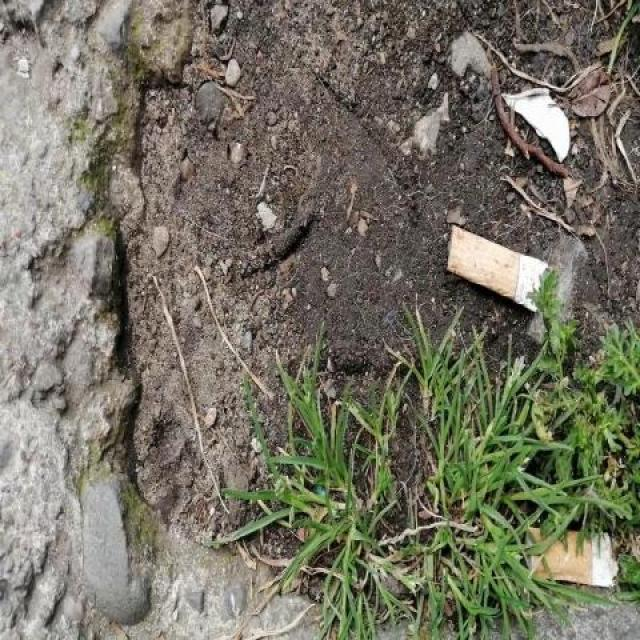non-organic waste: (443, 220, 553, 317), (523, 522, 625, 593)
